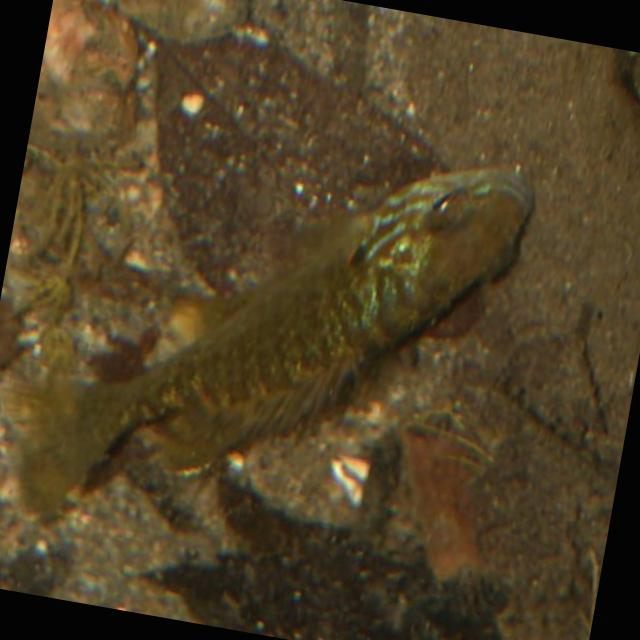Gunes Levregi: (0, 66, 542, 607)
